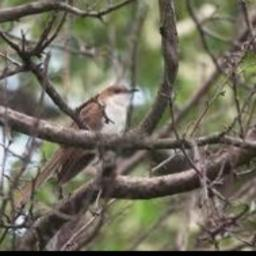Cuckoo: (7, 83, 138, 211)
